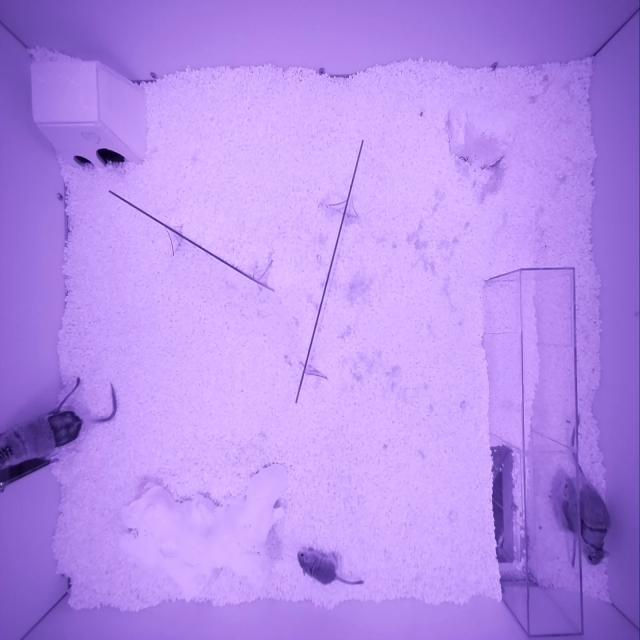adult_back: (0, 405, 91, 489)
pup_fluffy: (297, 549, 337, 584)
pup_h_stripe: (580, 481, 612, 565)
pup_v_stripe: (559, 472, 578, 533)
